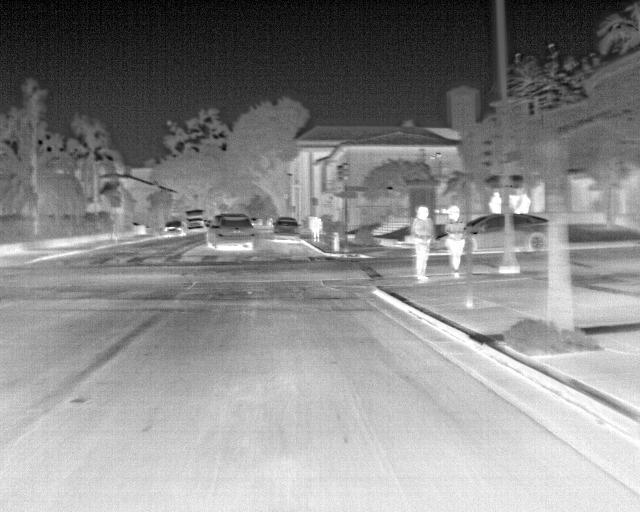bicycle: (203, 213, 255, 249), (467, 213, 503, 251), (514, 216, 546, 252), (271, 214, 302, 242), (160, 219, 183, 240), (185, 209, 207, 230)
empty: (441, 205, 468, 272), (412, 205, 435, 282), (510, 187, 530, 214), (485, 189, 504, 216), (310, 214, 324, 243)
